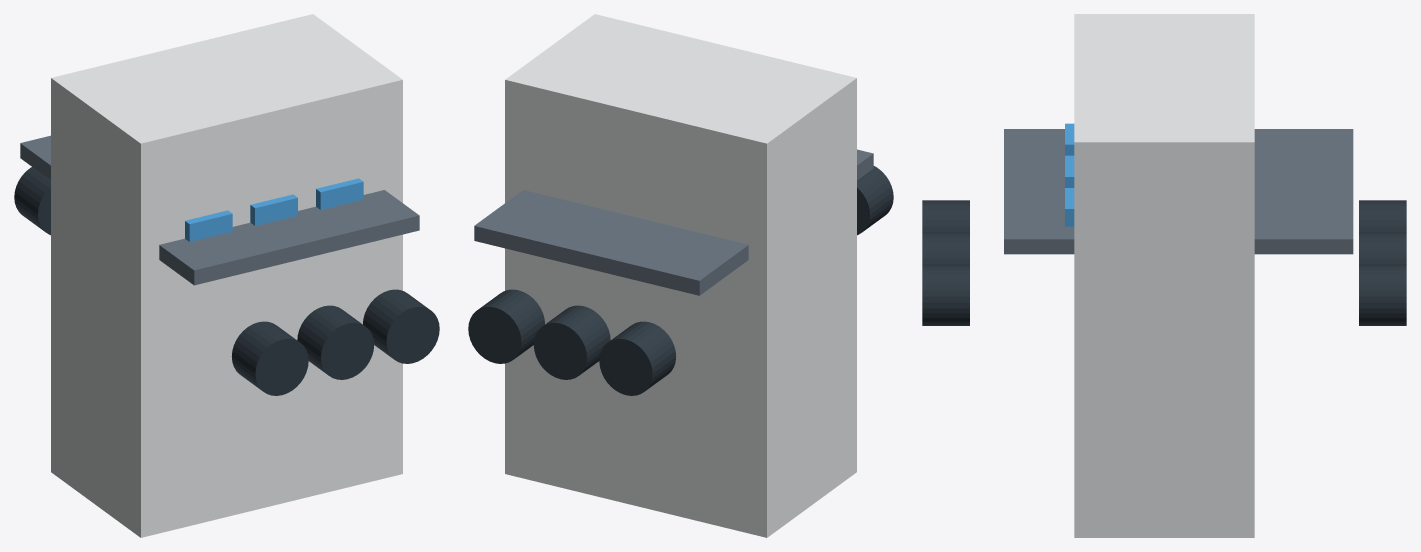
Rendered from mcb.glb.
3 renders of one model, left to right at view 1: azimuth 30°, elevation 25°; view 2: azimuth 150°, elevation 25°; view 3: azimuth 270°, elevation 25°, orthographic.
Visible parts, largest first — view 1: mcb_0, mcb_1, mcb_3, mcb_9, mcb_6, mcb_4, mcb_5, mcb_11, mcb_8; view 2: mcb_0, mcb_1, mcb_4, mcb_10, mcb_7, mcb_3; view 3: mcb_0, mcb_1, mcb_9, mcb_10, mcb_3, mcb_4, mcb_6, mcb_7.
Boxes of the visible parts, x1=… form: mcb_0: x1=51, y1=14, x2=402, y2=537; mcb_1: x1=20, y1=135, x2=419, y2=285; mcb_3: x1=231, y1=321, x2=308, y2=395; mcb_9: x1=363, y1=289, x2=439, y2=363; mcb_6: x1=297, y1=305, x2=373, y2=379; mcb_4: x1=14, y1=167, x2=50, y2=235; mcb_5: x1=185, y1=210, x2=232, y2=241; mcb_11: x1=316, y1=178, x2=363, y2=209; mcb_8: x1=250, y1=194, x2=297, y2=225; mcb_0: x1=505, y1=14, x2=856, y2=537; mcb_1: x1=474, y1=149, x2=873, y2=295; mcb_4: x1=599, y1=321, x2=676, y2=395; mcb_10: x1=468, y1=289, x2=544, y2=363; mcb_7: x1=534, y1=305, x2=610, y2=379; mcb_3: x1=857, y1=166, x2=893, y2=235; mcb_0: x1=1074, y1=14, x2=1254, y2=537; mcb_1: x1=1004, y1=129, x2=1353, y2=254; mcb_9: x1=922, y1=264, x2=969, y2=325; mcb_10: x1=1359, y1=264, x2=1406, y2=325; mcb_3: x1=922, y1=200, x2=969, y2=232; mcb_4: x1=1359, y1=200, x2=1406, y2=232; mcb_6: x1=922, y1=232, x2=969, y2=264; mcb_7: x1=1359, y1=232, x2=1406, y2=264.
Size of the model in its own units: 0.64 by 0.92 by 1.02.
